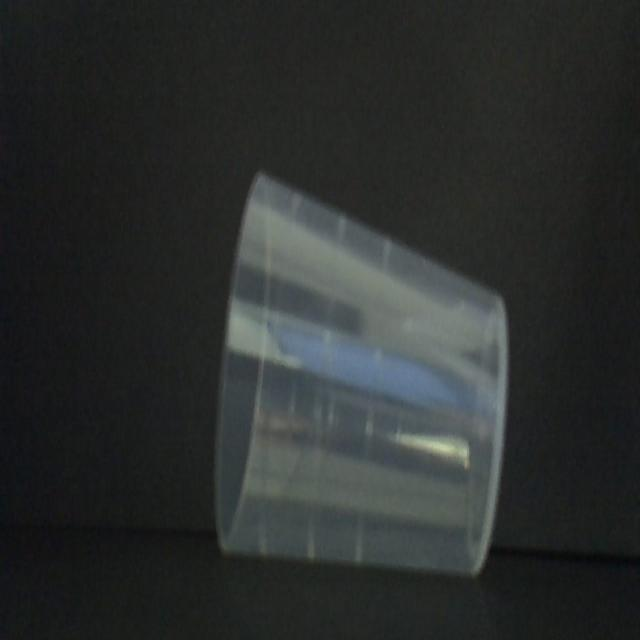cup: (214, 169, 512, 576)
